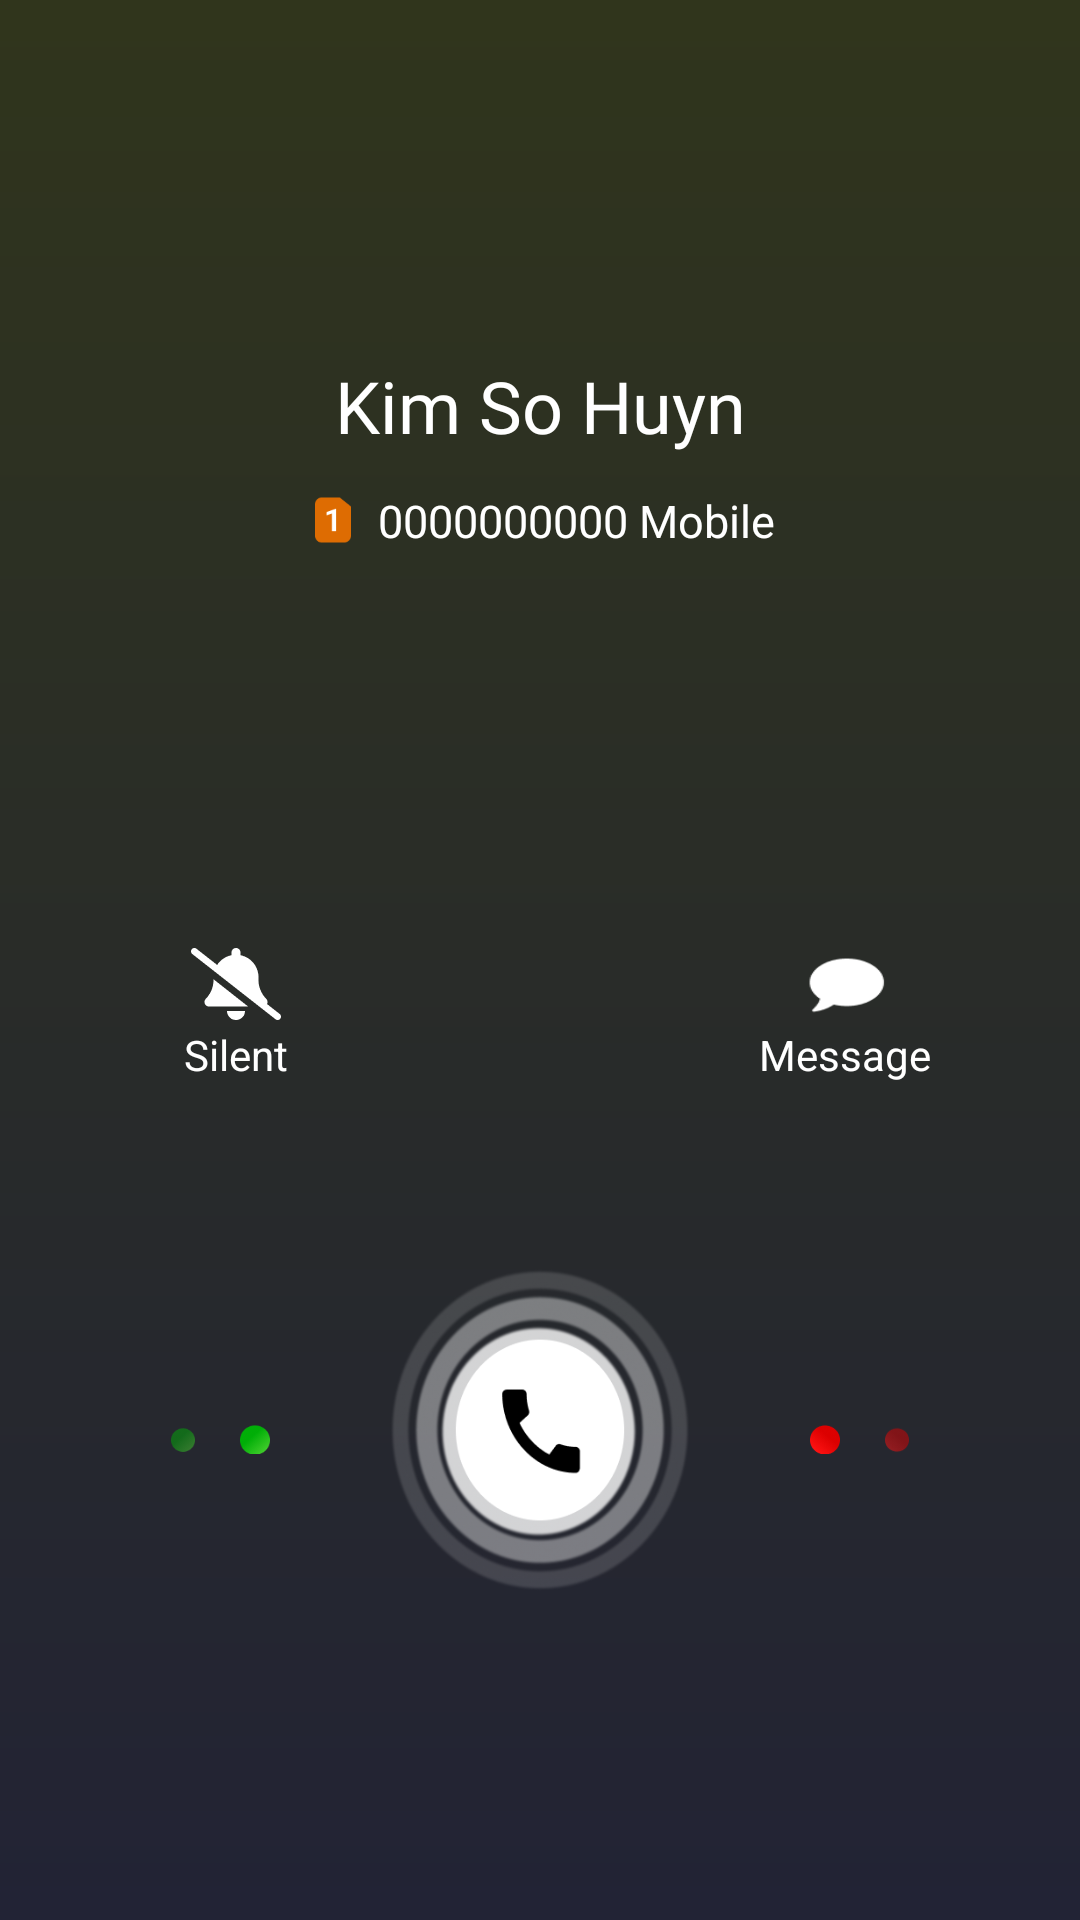

Where icons sit on this 1080x1920 app screen, as bbox=[x1, y1, x2, y2]:
call oppo: bbox=[393, 1273, 687, 1588]
sim: bbox=[315, 497, 351, 543]
